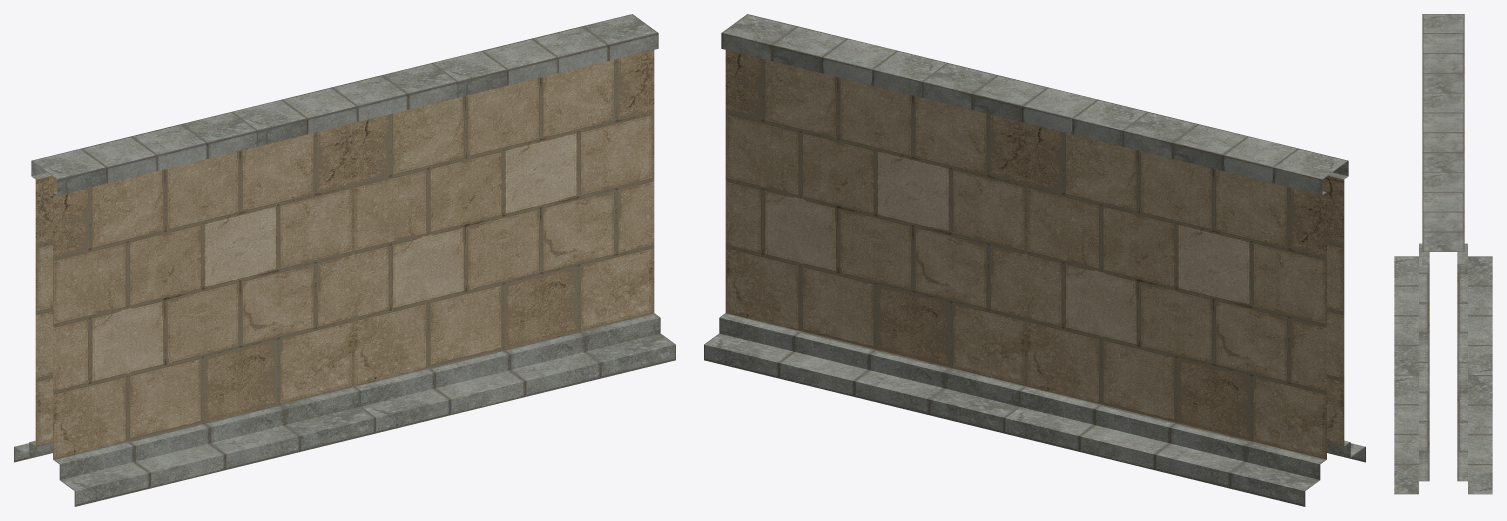
Rendered from wall_plain_4U.fbx.
The picture shows the model from 3 angles, left to right: view 1: azimuth 30°, elevation 25°; view 2: azimuth 150°, elevation 25°; view 3: azimuth 270°, elevation 25°; orthographic projection. The views are drawn at different scales.
Visible parts, largest first — view 1: wall_plain_4U; view 2: wall_plain_4U; view 3: wall_plain_4U.
Part boxes in pixels (x1=…): wall_plain_4U: x1=14, y1=14, x2=675, y2=506; wall_plain_4U: x1=704, y1=14, x2=1365, y2=506; wall_plain_4U: x1=1394, y1=14, x2=1492, y2=494.
Bounding box in the file's own units: 400 × 200 × 70.
